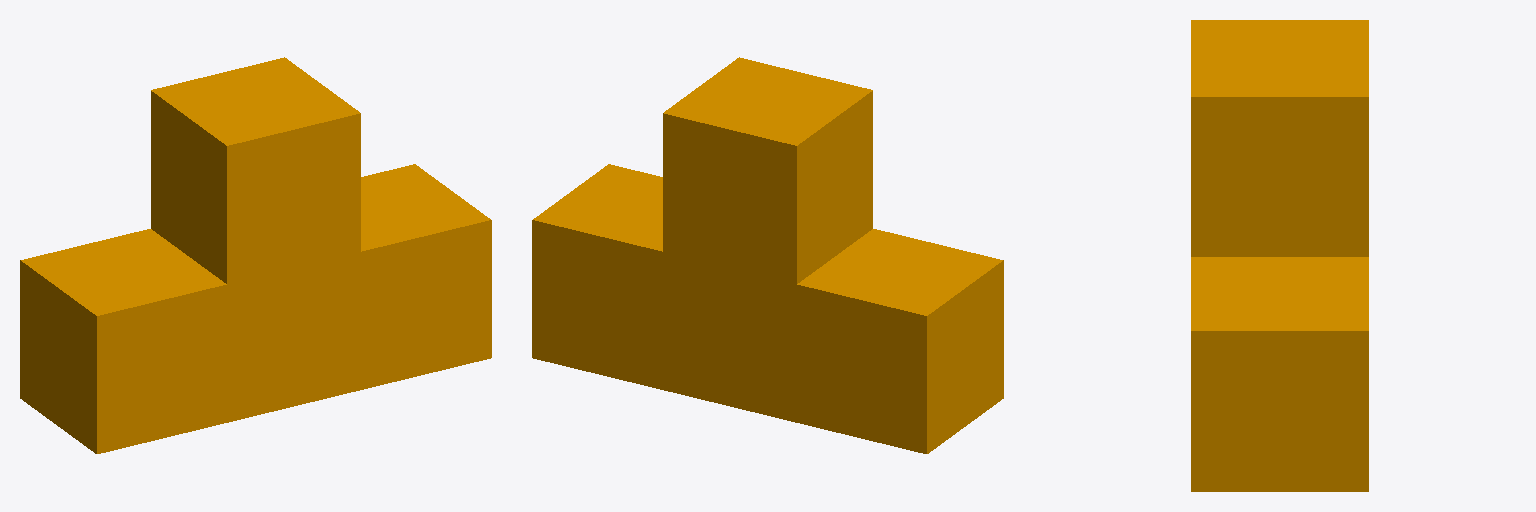
The robot description file, URDF, robot "2_3T_1":
<robot name="2_3T_1">
  <link name="link">
    <visual>
      <geometry>
        <mesh filename="2_3T_1.obj" scale="1 1 1"/>
      </geometry>
    </visual>
    <collision>
      <geometry>
        <mesh filename="2_3T_1.obj" scale="1 1 1"/>
      </geometry>
    </collision>
    <inertial>
      <mass value="1"/>
      <inertia ixx="1" iyy="1" izz="1" ixy="0" ixz="0" iyz="0"/>
      <origin xyz="0 0 0" rpy="0 0 0"/>
    </inertial>
  </link>
</robot>

--- What the picture shows (computed from the rendered views, not written in the file) ---
The picture shows the robot from 3 angles, left to right: view 1: azimuth 30°, elevation 25°; view 2: azimuth 150°, elevation 25°; view 3: azimuth 270°, elevation 25°; orthographic projection.
Model 2_3T_1 with 1 links and 0 joints (none), rooted at link, posed every joint at zero.
Visible links, largest first — view 1: link; view 2: link; view 3: link.
Link boxes in pixels (bbox=[...]): link: bbox=[20, 57, 491, 453]; link: bbox=[532, 57, 1003, 453]; link: bbox=[1191, 20, 1368, 491].
Bounding box of the posed robot: 0.1767 × 0.0592 × 0.1184 m (x, y, z).
Meshes: 1 distinct files referenced, 1 mesh visuals loaded (1 OBJ).